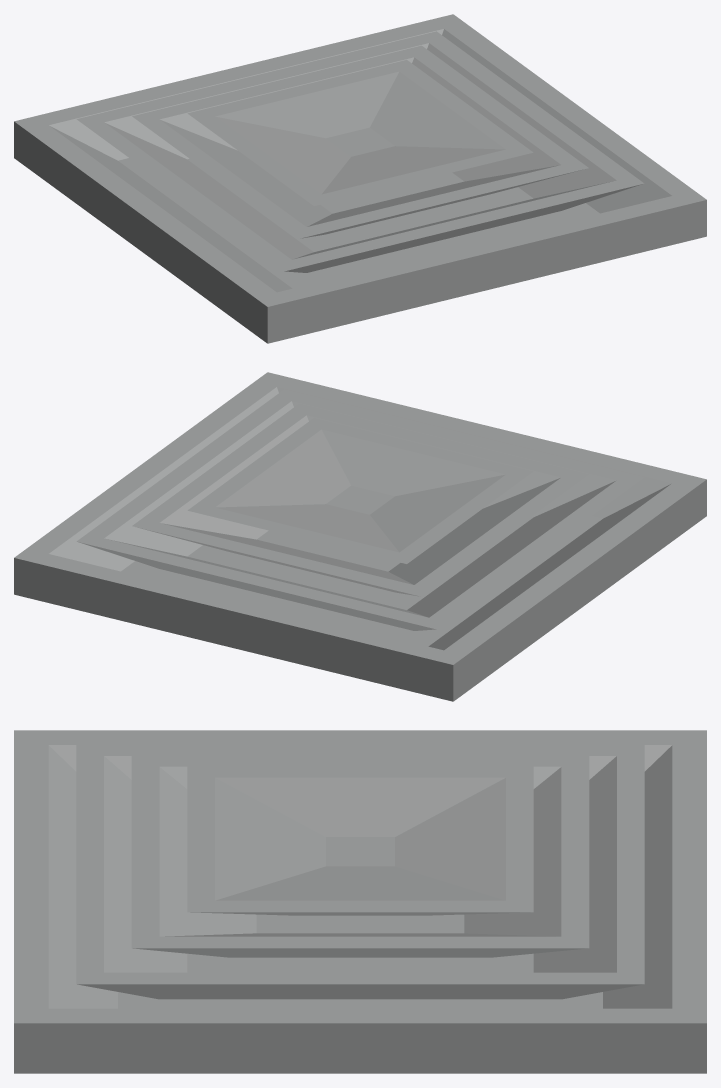
File: HVAC_Grille_50x50.fbx
3 renders of one model, top to bottom at view 1: azimuth 30°, elevation 25°; view 2: azimuth 150°, elevation 25°; view 3: azimuth 270°, elevation 25°, orthographic. The views are drawn at different scales.
Parts seen in each view (by area): view 1: HVAC_Grille_50x50; view 2: HVAC_Grille_50x50; view 3: HVAC_Grille_50x50.
Part boxes in pixels (x1,y1,x2,y2): HVAC_Grille_50x50: (14, 14, 706, 343); HVAC_Grille_50x50: (14, 372, 706, 701); HVAC_Grille_50x50: (14, 730, 706, 1073).
Size of the model in its own units: 0.005 by 0.0007 by 0.005.
